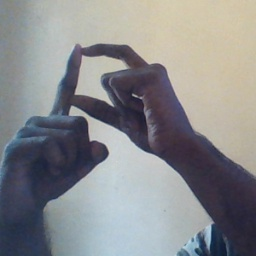D: (23, 34, 166, 161)
